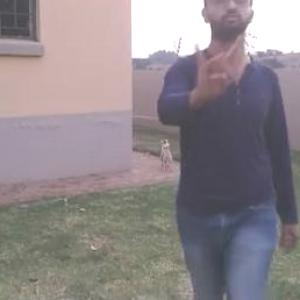takeoff-hand: (189, 28, 249, 99)
